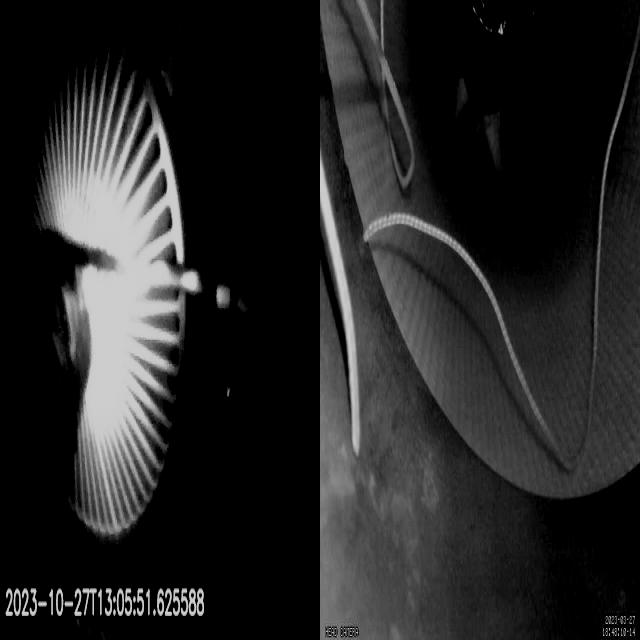white-dots: (215, 282, 252, 322)
